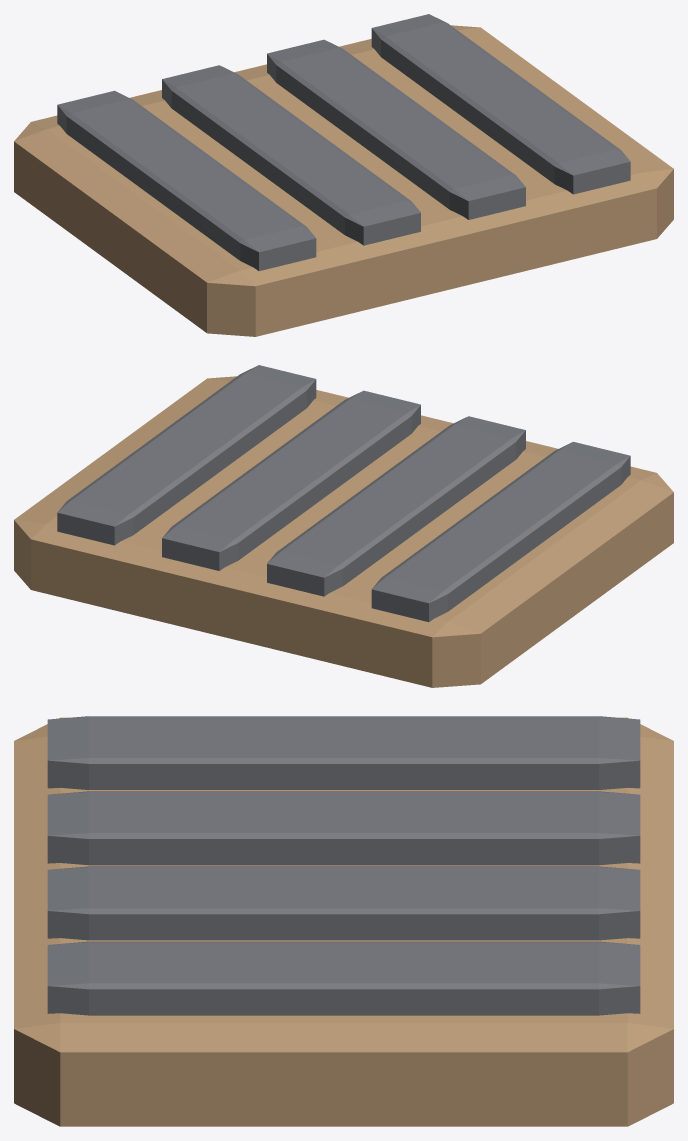
File: b14_rackable_plastic_pallet.glb
3 views of the same model, one above another, from view 1: azimuth 30°, elevation 25°; view 2: azimuth 150°, elevation 25°; view 3: azimuth 270°, elevation 25° (orthographic). The views are drawn at different scales.
Parts seen in each view (by area): view 1: b14_rackable_plastic_pallet; view 2: b14_rackable_plastic_pallet; view 3: b14_rackable_plastic_pallet.
Boxes of the visible parts, left/top/right/bottom form: b14_rackable_plastic_pallet: left=14, top=14, right=673, bottom=336; b14_rackable_plastic_pallet: left=14, top=365, right=673, bottom=687; b14_rackable_plastic_pallet: left=14, top=716, right=673, bottom=1126.
Bounding box in the file's own units: 1.2 × 0.193 × 1.
